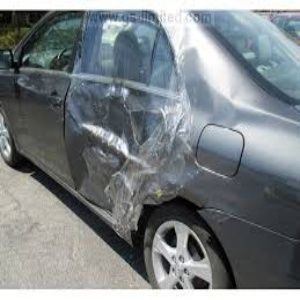door: (27, 95, 158, 197)
